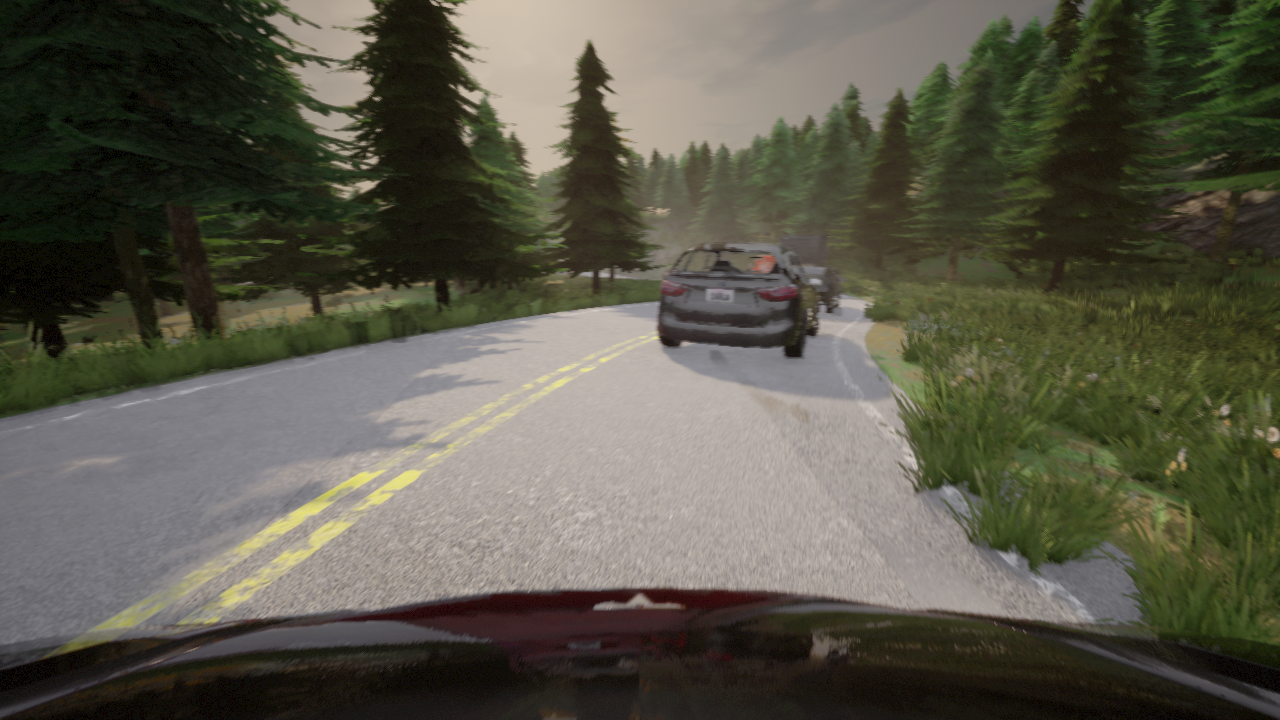cyclist: (0, 588, 1279, 719), (658, 243, 821, 358), (776, 234, 838, 280), (802, 264, 846, 313), (663, 270, 670, 279)
